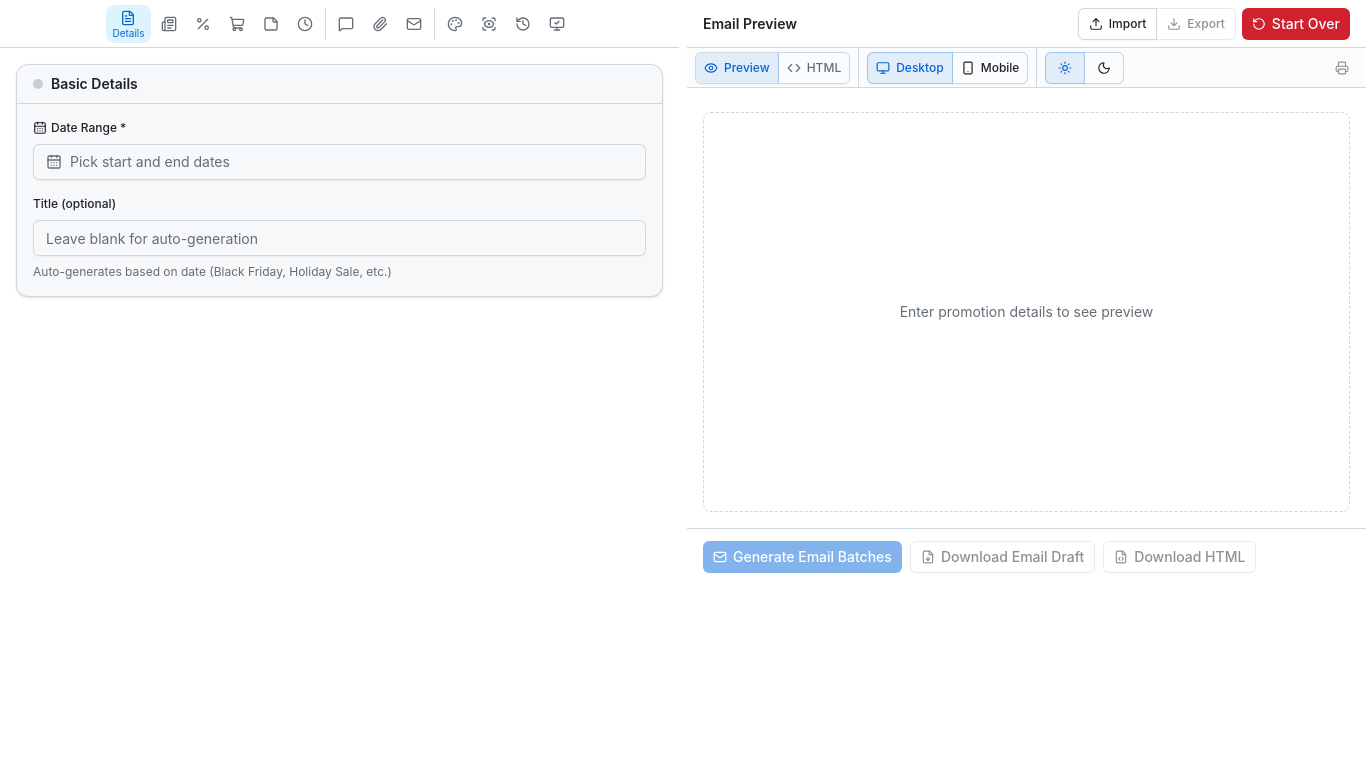
Scenario: PromotionPage › shows the Basic Details card by default and swaps when a tool is picked
Check: the heading "Basic Details" is shown, box [51,77,138,91]
Check: the text "Special Hours" is not shown
Step 1. Click the button with test id "toolbar-icon-specialHoursCard" → {"x": 304, "y": 24}, box [288,4,320,42]
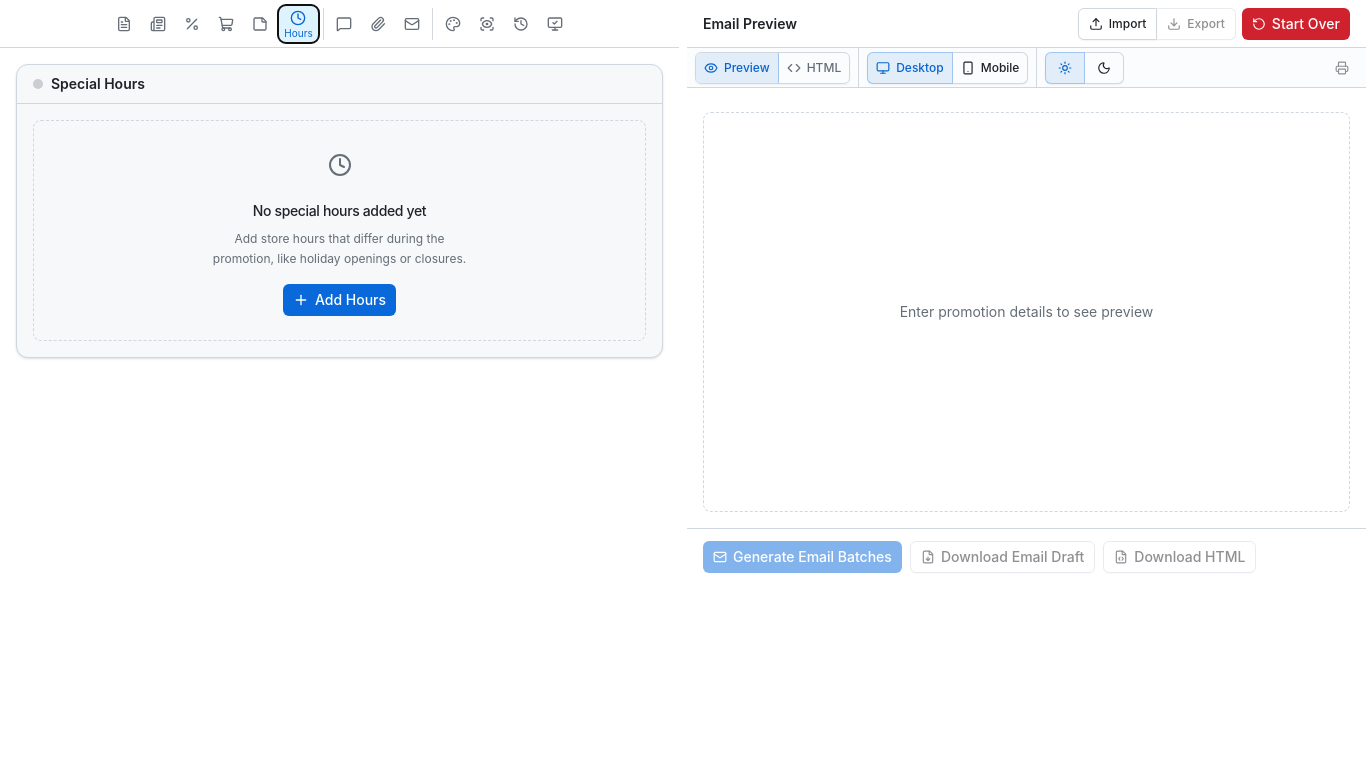
Check: the heading "Special Hours" is shown, box [51,77,145,91]
Check: the heading "Basic Details" is gone
